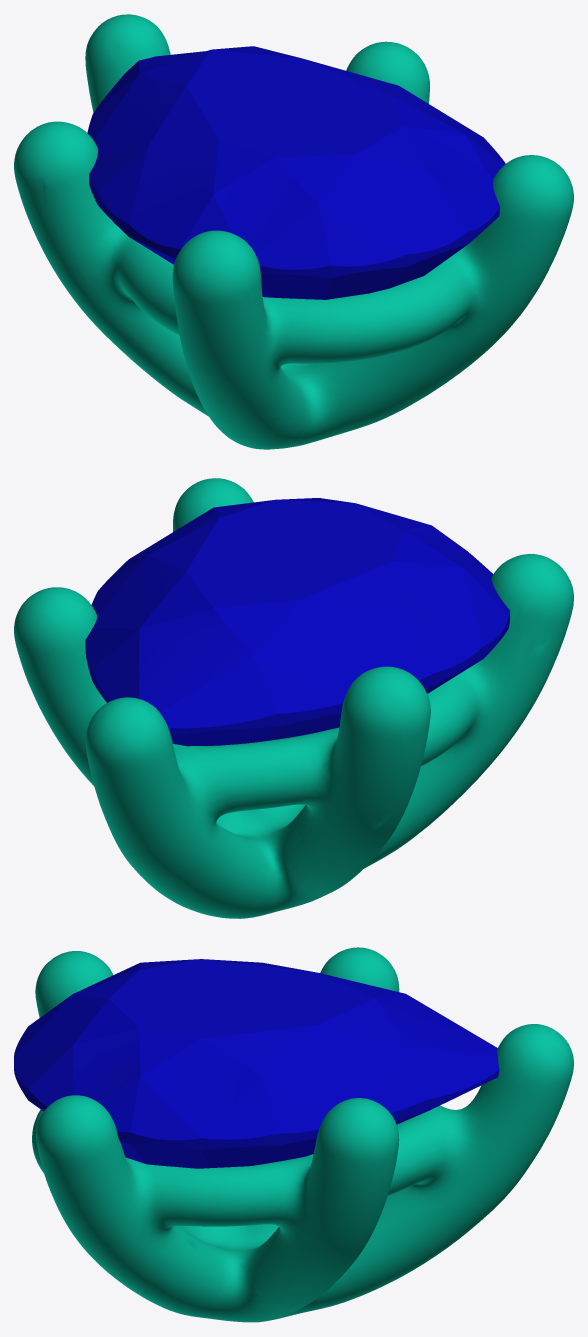
File: Pear.glb
3 renders of one model, top to bottom at view 1: azimuth 30°, elevation 25°; view 2: azimuth 150°, elevation 25°; view 3: azimuth 270°, elevation 25°, orthographic. The views are drawn at different scales.
Visible parts, largest first — view 1: /GSMOD388300-6 PRONG_Pear_IJ.3dm, Diamond_Pear; view 2: /GSMOD388300-6 PRONG_Pear_IJ.3dm, Diamond_Pear; view 3: /GSMOD388300-6 PRONG_Pear_IJ.3dm, Diamond_Pear.
Boxes of the visible parts, x1,y1,x2,y2 form: /GSMOD388300-6 PRONG_Pear_IJ.3dm: [14, 14, 573, 449]; Diamond_Pear: [87, 46, 505, 299]; /GSMOD388300-6 PRONG_Pear_IJ.3dm: [14, 478, 573, 918]; Diamond_Pear: [85, 498, 509, 746]; /GSMOD388300-6 PRONG_Pear_IJ.3dm: [32, 947, 573, 1322]; Diamond_Pear: [14, 959, 499, 1168].
Size of the model in its own units: 7.78 by 6.19 by 9.99.
